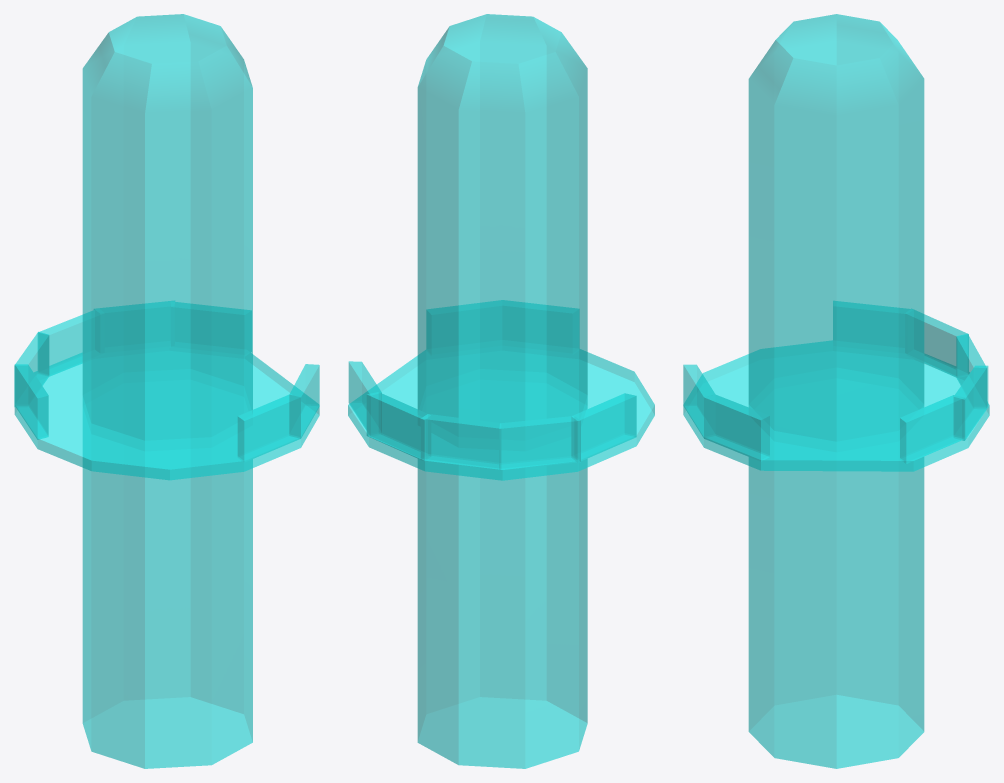
The model's file is SM_Bld_Refinery_Silo_02_Collision.fbx.
3 views of the same model, side by side, from view 1: azimuth 30°, elevation 25°; view 2: azimuth 150°, elevation 25°; view 3: azimuth 270°, elevation 25° (orthographic).
Parts seen in each view (by area): view 1: SM_Bld_Refinery_Silo_02_Collision; view 2: SM_Bld_Refinery_Silo_02_Collision; view 3: SM_Bld_Refinery_Silo_02_Collision.
Boxes of the visible parts, x1,y1,x2,y2 form: SM_Bld_Refinery_Silo_02_Collision: (14,14,319,768); SM_Bld_Refinery_Silo_02_Collision: (348,14,654,768); SM_Bld_Refinery_Silo_02_Collision: (683,14,989,768).
Size of the model in its own units: 531 by 1402 by 562.
